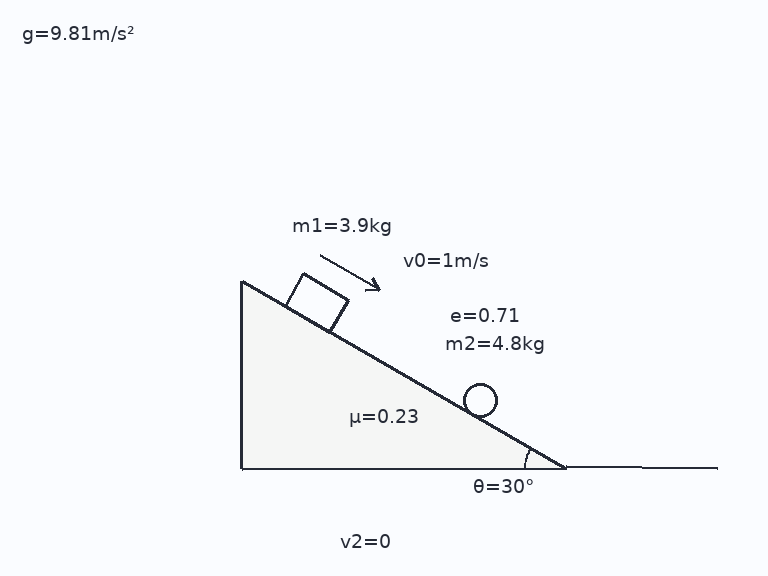ball: (461, 381, 499, 419)
block: (283, 272, 350, 334)
ramp: (240, 280, 567, 470)
